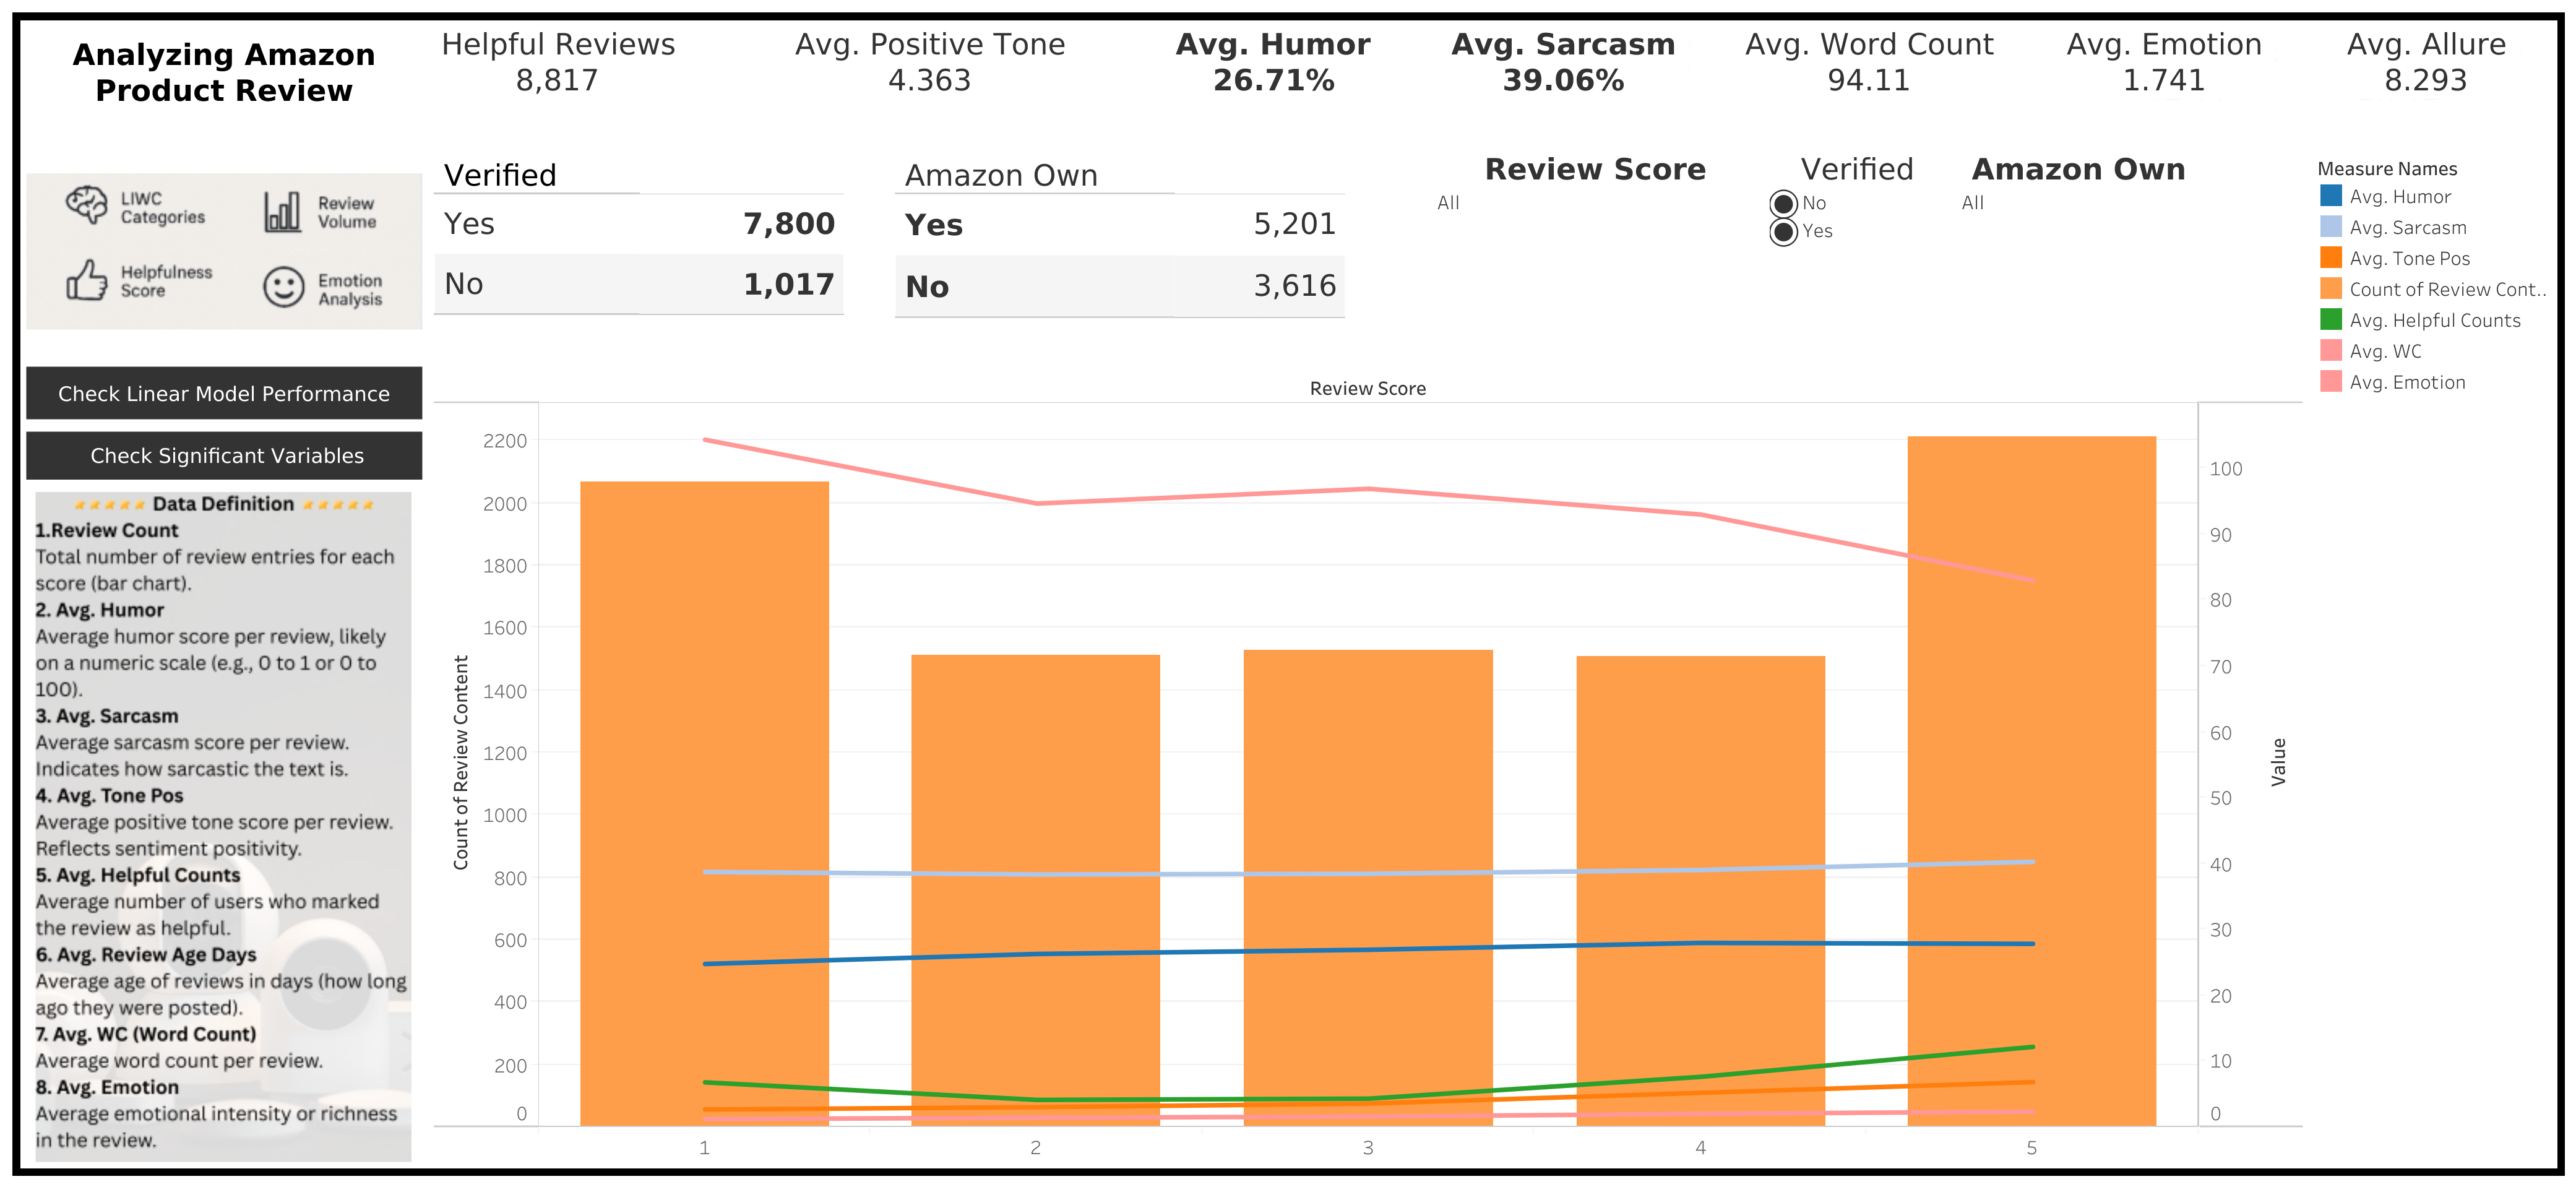

This screenshot's page, from the dashboard's own definition file:
{"tool":"tableau","page":{"name":"Main","canvas":[1666,768],"ordinal":1},"visuals":[{"type":"text","box":[13,13,264,68]},{"type":"worksheet","title":"Helpful Reviews   ","mark":"Automatic","box":[277,13,221,80]},{"type":"worksheet","title":"Avg. Positive Tone","mark":"Automatic","box":[498,13,252,80]},{"type":"worksheet","title":"Avg. Humor","mark":"Automatic","box":[750,13,177,80]},{"type":"worksheet","title":"Avg. Sarcasm","mark":"Automatic","box":[927,13,188,80]},{"type":"worksheet","title":"Avg. Word Count","mark":"Automatic","box":[1115,13,211,80]},{"type":"worksheet","title":"Avg Emotion","mark":"Automatic","box":[1326,13,179,80]},{"type":"worksheet","title":"Avg, Allure","mark":"Automatic","box":[1505,13,148,80]},{"type":"image","param":"Image/Screenshot 2025-04-11 111332.png","box":[13,81,264,144]},{"type":"worksheet","title":"Verified","mark":"Automatic","rows":["Verified"],"box":[277,93,298.5,143]},{"type":"worksheet","title":"Amazpn Own","mark":"Automatic","rows":["AmazonYN"],"box":[575.5,93,347.6,143]},{"type":"filter","title":"Combo Variable Graph","param":"[federated.04cscol1owm22m1gykplr18f2jmw].[none:ReviewScore:ok]","box":[923.1,93,217,143]},{"type":"filter","title":"Combo Variable Graph","param":"[federated.04cscol1owm22m1gykplr18f2jmw].[none:Verified:nk]","box":[1140.1,93,122,143]},{"type":"filter","title":"Combo Variable Graph","param":"[federated.04cscol1owm22m1gykplr18f2jmw].[none:AmazonYN:nk]","box":[1262.1,93,164,143]},{"type":"legend","title":"Combo Variable Graph","param":"[federated.04cscol1owm22m1gykplr18f2jmw].[:Measure Names]","box":[1493,93,160,166]},{"type":"image","param":"Image/Beige Minimal Vlog Instagram Reel Cover (2).png","box":[13,225,264,530]},{"type":"worksheet","title":"Combo Variable Graph","mark":"Automatic","rows":["ReviewContent"],"cols":["ReviewScore"],"box":[277,236,1216,519]}]}

Visuals, with their boxes in screenshot pixels (x1, y1, x2, y2), scaled from the page's 1666x768 canvas onto the 2576x1187 screenshot:
text: pyautogui.locateOnScreen(20, 20, 428, 125)
"Helpful Reviews   " worksheet: pyautogui.locateOnScreen(428, 20, 770, 144)
"Avg. Positive Tone" worksheet: pyautogui.locateOnScreen(770, 20, 1160, 144)
"Avg. Humor" worksheet: pyautogui.locateOnScreen(1160, 20, 1433, 144)
"Avg. Sarcasm" worksheet: pyautogui.locateOnScreen(1433, 20, 1724, 144)
"Avg. Word Count" worksheet: pyautogui.locateOnScreen(1724, 20, 2050, 144)
"Avg Emotion" worksheet: pyautogui.locateOnScreen(2050, 20, 2327, 144)
"Avg, Allure" worksheet: pyautogui.locateOnScreen(2327, 20, 2556, 144)
image: pyautogui.locateOnScreen(20, 125, 428, 348)
"Verified" worksheet: pyautogui.locateOnScreen(428, 144, 890, 365)
"Amazpn Own" worksheet: pyautogui.locateOnScreen(890, 144, 1428, 365)
"Combo Variable Graph" filter: pyautogui.locateOnScreen(1428, 144, 1763, 365)
"Combo Variable Graph" filter: pyautogui.locateOnScreen(1763, 144, 1952, 365)
"Combo Variable Graph" filter: pyautogui.locateOnScreen(1952, 144, 2205, 365)
"Combo Variable Graph" legend: pyautogui.locateOnScreen(2309, 144, 2556, 400)
image: pyautogui.locateOnScreen(20, 348, 428, 1167)
"Combo Variable Graph" worksheet: pyautogui.locateOnScreen(428, 365, 2309, 1167)
